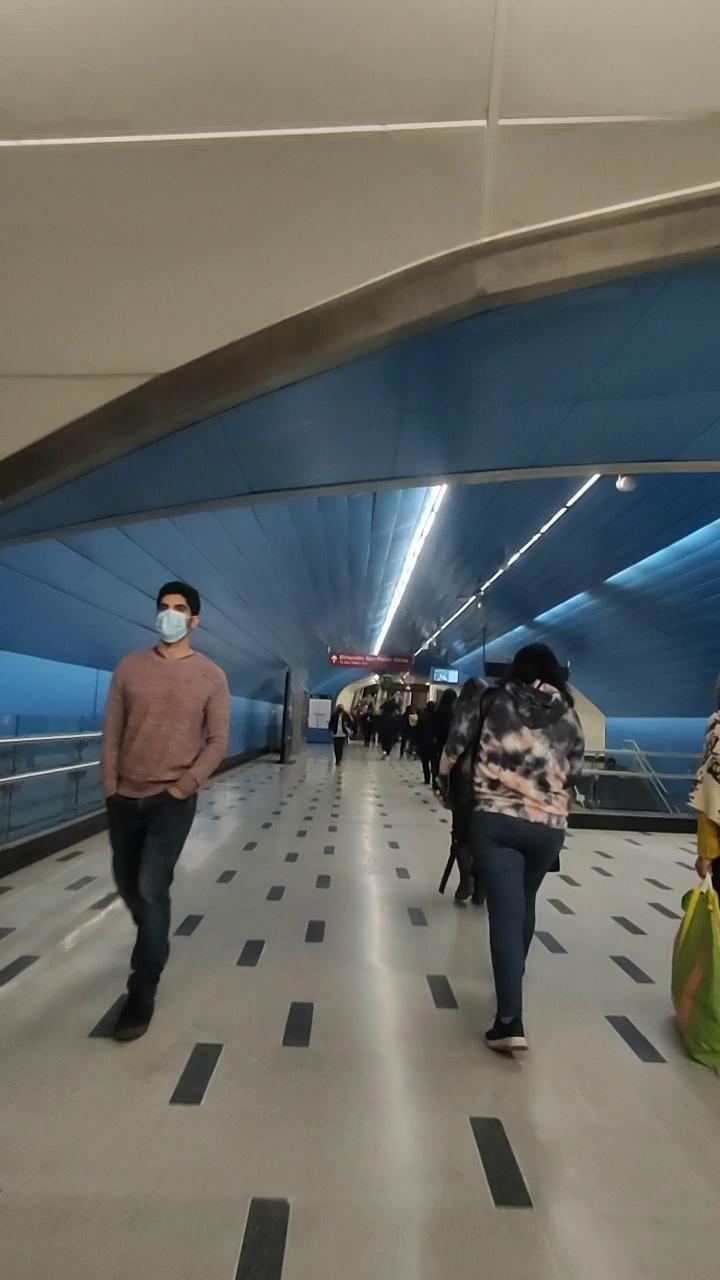up arrow: (330, 655, 338, 664)
